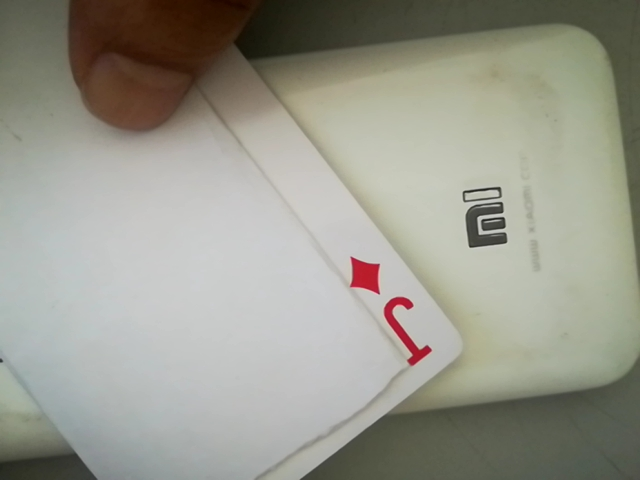fk j: (339, 246, 442, 372)
